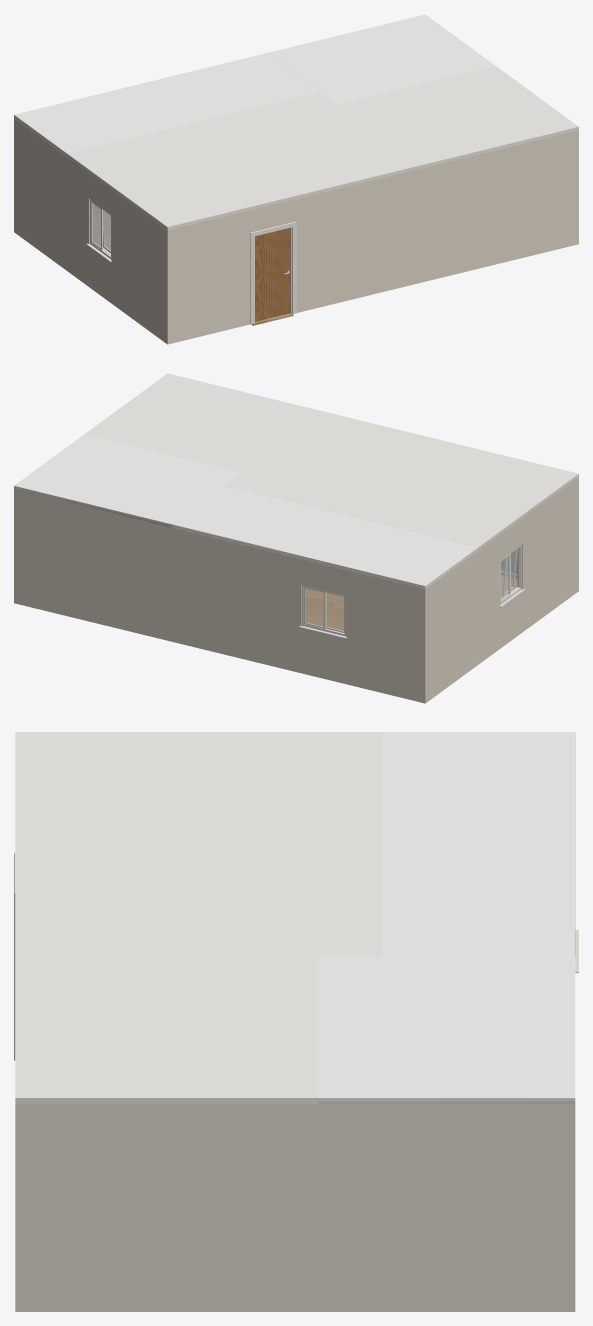
Rendered from BB_Estrutura.fbx.
The picture shows the model from 3 angles, top to bottom: view 1: azimuth 30°, elevation 25°; view 2: azimuth 150°, elevation 25°; view 3: azimuth 270°, elevation 25°; orthographic projection. The views are drawn at different scales.
Visible parts, largest first — view 1: Paredes, Teto_Sala, Teto_Quarto, Teto_Cozinha, Teto_Banheiro, Porta_Entrada_Folha, Porta_Entrada_Batente, Piso, Janela_Sala_Folha_Externa; view 2: Paredes, Teto_Sala, Teto_Cozinha, Teto_Quarto, Teto_Banheiro, Piso, Janela_Cozinha_Folha_Externa, Janela_Cozinha_Folha_Interna, Janela_Cozinha_Marco, Janela_Sala_Marco, Janela_Sala_Folha_Externa; view 3: Paredes, Teto_Sala, Teto_Quarto, Teto_Cozinha, Teto_Banheiro.
Boxes of the visible parts, bbox=[...] form: Paredes: bbox=[14, 118, 578, 344]; Teto_Sala: bbox=[67, 92, 420, 230]; Teto_Quarto: bbox=[338, 66, 578, 168]; Teto_Cozinha: bbox=[14, 53, 319, 156]; Teto_Banheiro: bbox=[267, 14, 495, 104]; Porta_Entrada_Folha: bbox=[255, 227, 290, 321]; Porta_Entrada_Batente: bbox=[250, 221, 296, 324]; Piso: bbox=[94, 212, 293, 325]; Janela_Sala_Folha_Externa: bbox=[91, 201, 102, 250]; Paredes: bbox=[14, 477, 578, 703]; Teto_Sala: bbox=[225, 412, 578, 550]; Teto_Cozinha: bbox=[172, 485, 478, 589]; Teto_Quarto: bbox=[85, 373, 325, 472]; Teto_Banheiro: bbox=[14, 434, 241, 527]; Piso: bbox=[306, 575, 517, 630]; Janela_Cozinha_Folha_Externa: bbox=[304, 586, 325, 629]; Janela_Cozinha_Folha_Interna: bbox=[326, 592, 344, 632]; Janela_Cozinha_Marco: bbox=[299, 585, 347, 638]; Janela_Sala_Marco: bbox=[499, 544, 525, 607]; Janela_Sala_Folha_Externa: bbox=[500, 553, 510, 601]; Paredes: bbox=[15, 1104, 575, 1311]; Teto_Sala: bbox=[15, 732, 382, 957]; Teto_Quarto: bbox=[15, 957, 318, 1103]; Teto_Cozinha: bbox=[382, 732, 575, 957]; Teto_Banheiro: bbox=[318, 957, 575, 1103].
Size of the model in its own units: 10.23 by 2.83 by 6.65.
